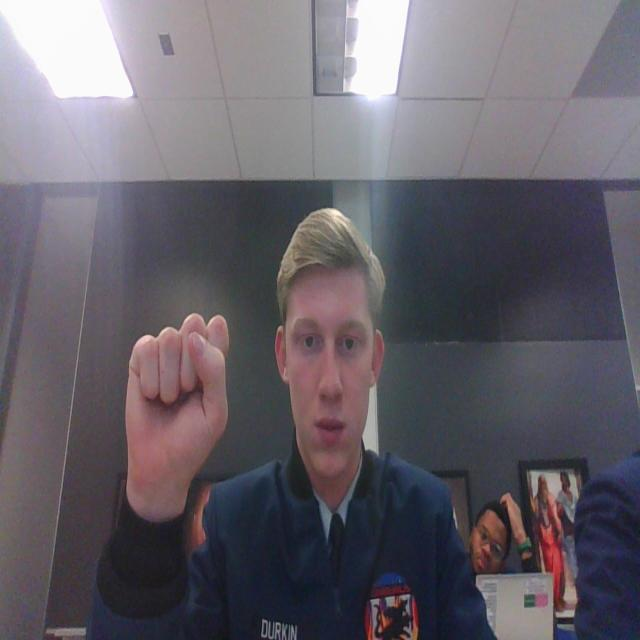rock: (119, 304, 232, 528)
